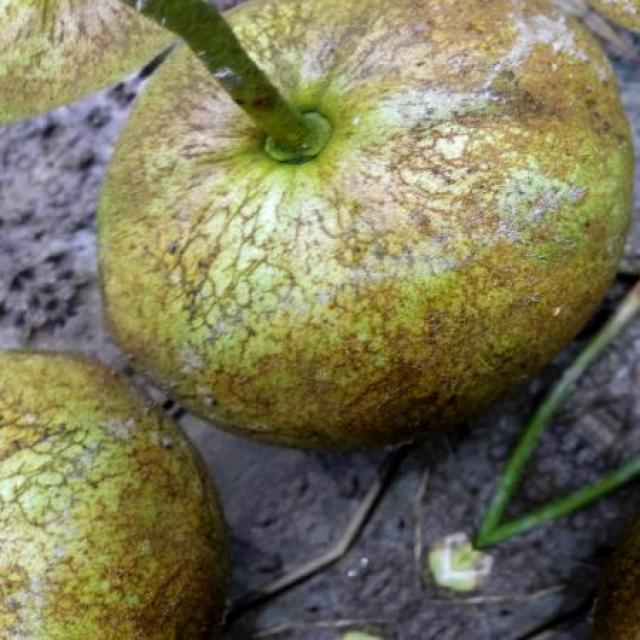Scab: (99, 2, 631, 447), (0, 352, 224, 639)
